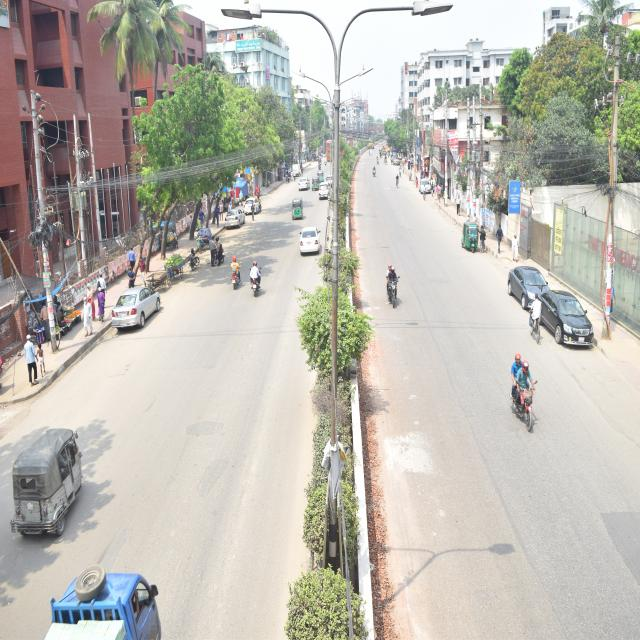bus: (322, 128, 340, 177)
car: (102, 256, 185, 363), (482, 251, 556, 334), (534, 274, 594, 362), (296, 210, 336, 285), (419, 167, 442, 216), (240, 188, 271, 224), (222, 202, 245, 245), (314, 175, 332, 211), (294, 172, 314, 202)
motorbike: (490, 327, 563, 463), (374, 252, 413, 336), (248, 250, 274, 324), (227, 249, 248, 318), (208, 230, 228, 280), (366, 157, 382, 189)
pickup-van: (42, 566, 185, 640), (290, 154, 304, 183)
